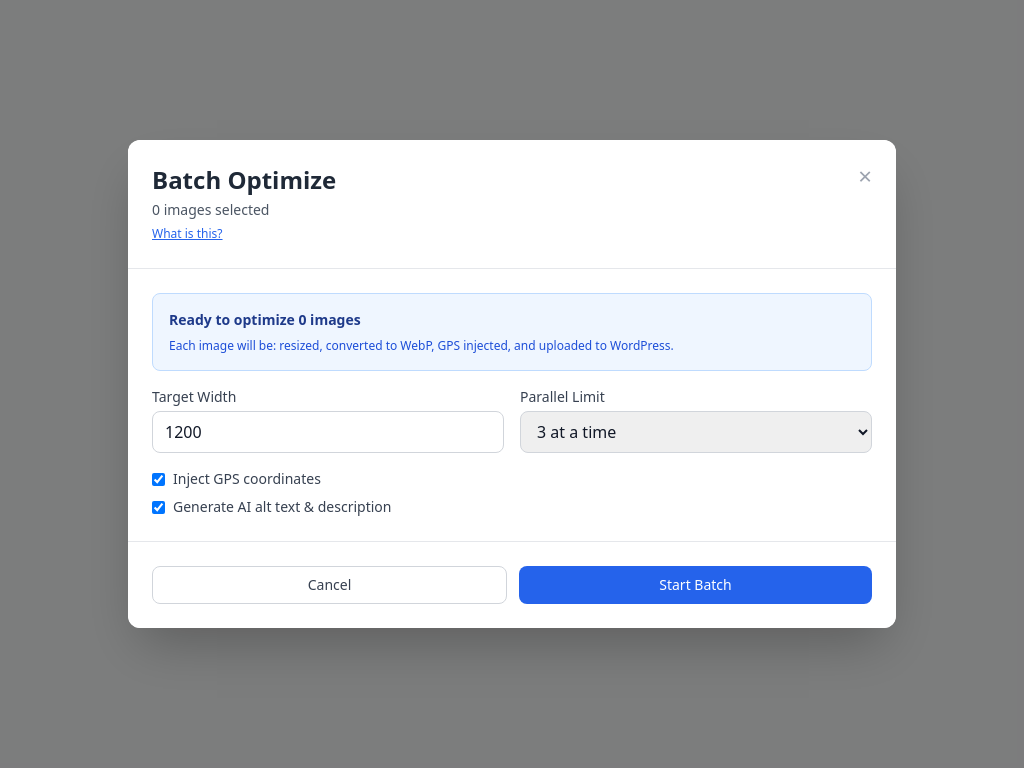
Test: BatchOptimizePanel explainer › says the old images keep being served until you swap them by hand
Click the button "What is this?" at (187, 234), box top-left (152, 226), bottom-right (222, 242)
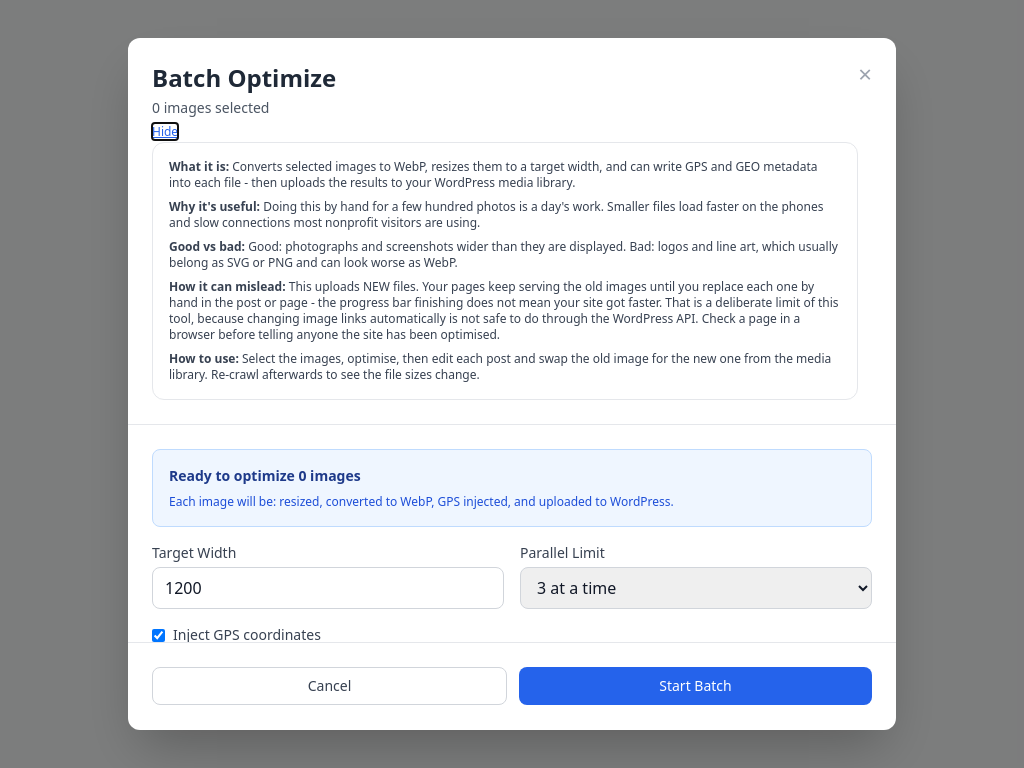
Now the element with test id "panel-explainer-batch-optimise" shows "uploads NEW files", box top-left (169, 278), bottom-right (838, 343)
